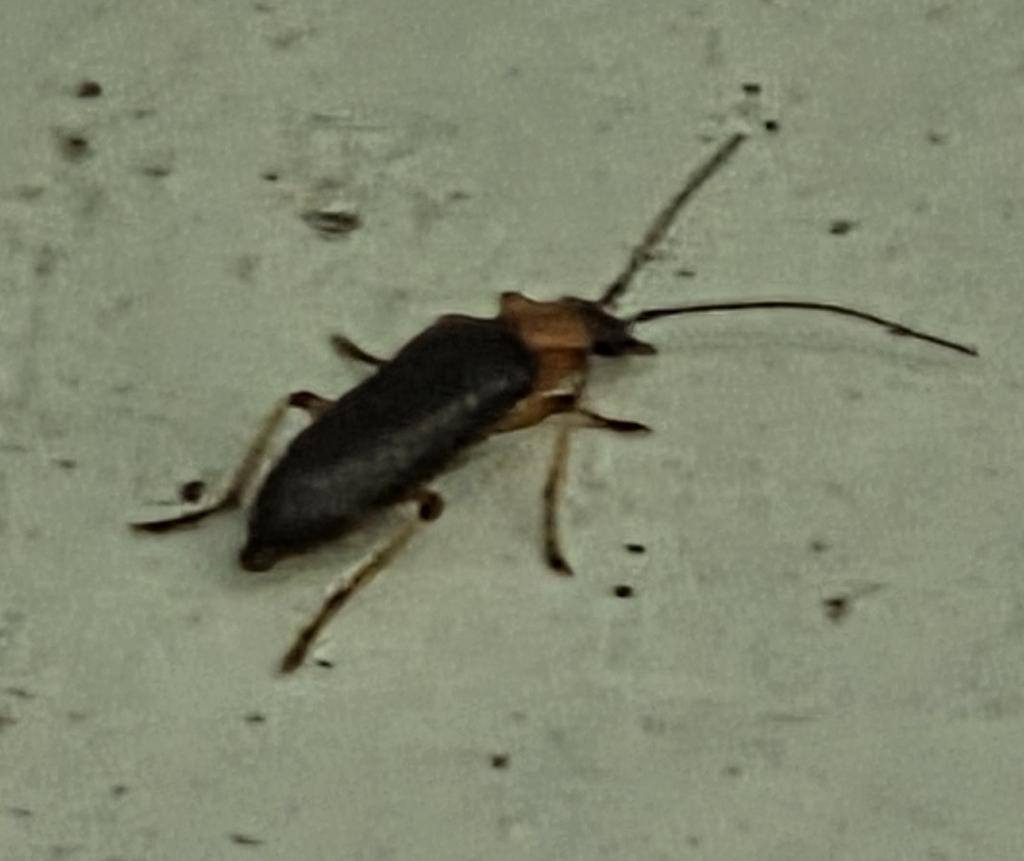blister_beetle: (92, 103, 1017, 765)
